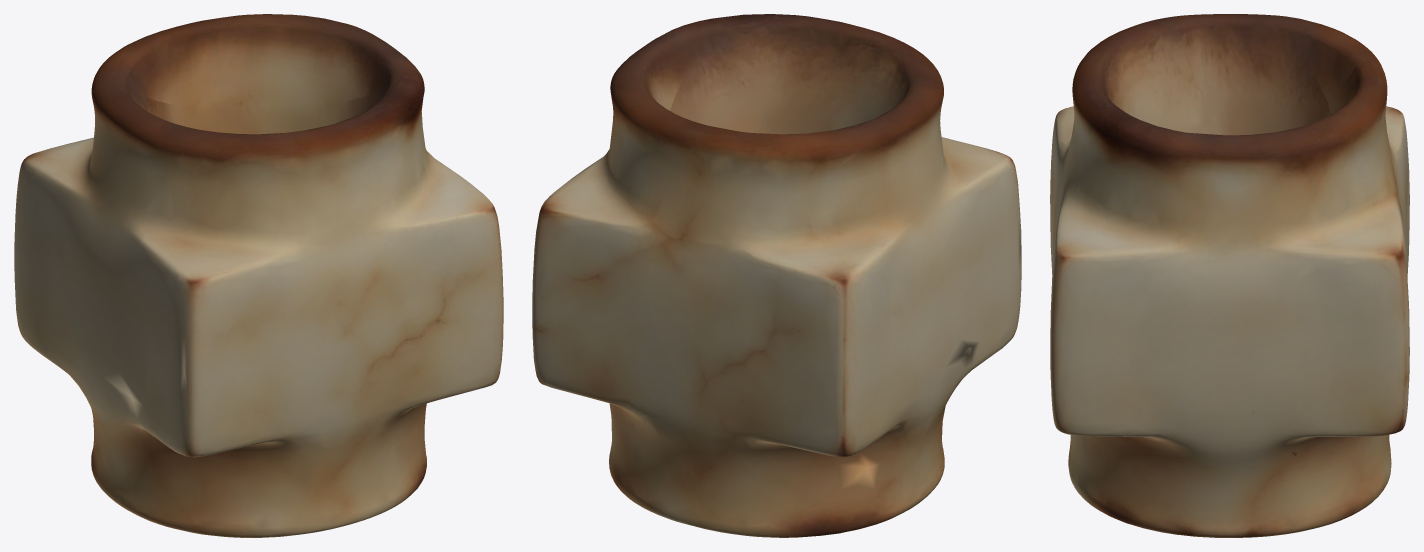
The model's file is jin-white-roaming.glb.
3 views of the same model, side by side, from view 1: azimuth 30°, elevation 25°; view 2: azimuth 150°, elevation 25°; view 3: azimuth 270°, elevation 25° (orthographic).
Parts seen in each view (by area): view 1: node_0; view 2: node_0; view 3: node_0.
Boxes of the visible parts, x1,y1,x2,y2 form: node_0: (14, 14, 503, 537); node_0: (532, 14, 1021, 537); node_0: (1050, 14, 1409, 537).
Size of the model in its own units: 0.8275 by 0.9575 by 0.7935.
1 material, 1 textured.
